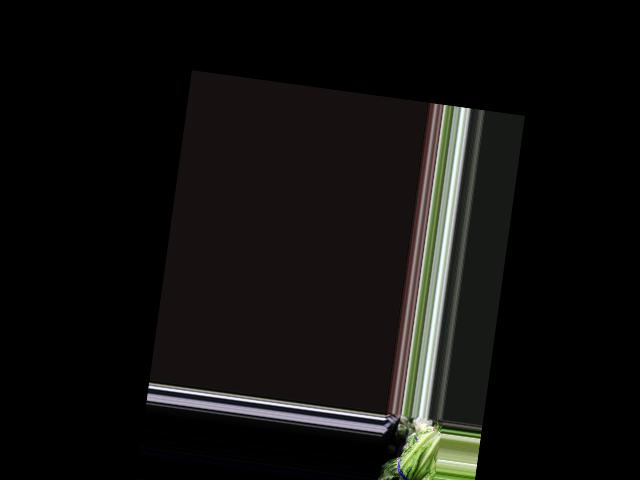lettuce: (380, 428, 441, 480)
